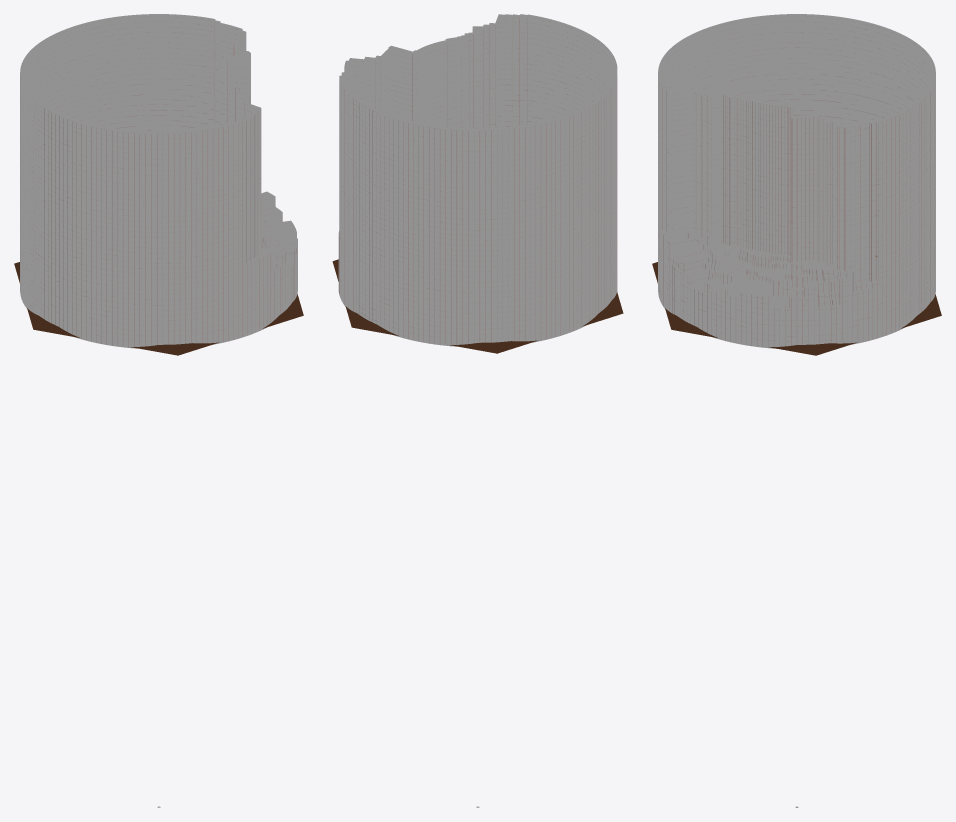
File: pdsarena.glb
The picture shows the model from 3 angles, left to right: view 1: azimuth 30°, elevation 25°; view 2: azimuth 150°, elevation 25°; view 3: azimuth 270°, elevation 25°; orthographic projection.
Visible parts, largest first — view 1: pds-arena-wall, pds-laser-grid, pds-floor-skirt; view 2: pds-arena-wall, pds-laser-grid, pds-floor-skirt; view 3: pds-arena-wall, pds-laser-grid, pds-floor-skirt.
Part boxes in pixels (<box>): pds-arena-wall: <box>20,14,297,348</box>; pds-laser-grid: <box>20,17,296,345</box>; pds-floor-skirt: <box>14,262,303,355</box>; pds-arena-wall: <box>338,14,617,346</box>; pds-laser-grid: <box>339,18,617,343</box>; pds-floor-skirt: <box>332,259,623,353</box>; pds-arena-wall: <box>658,14,935,348</box>; pds-laser-grid: <box>662,22,930,347</box>; pds-floor-skirt: <box>652,262,941,355</box>.
Bounding box in the file's own units: 109 × 283 × 101.
5 materials, 5 textured.
